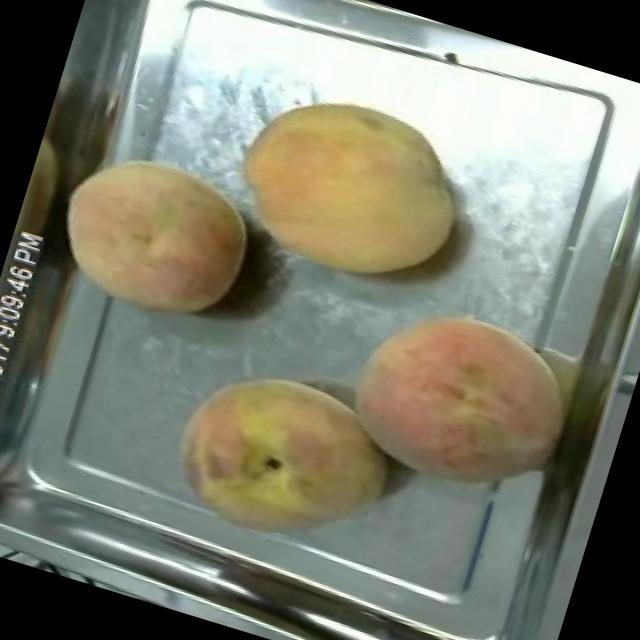Fruit: (206, 64, 486, 310), (326, 276, 594, 519), (147, 342, 415, 576), (32, 126, 273, 345)
